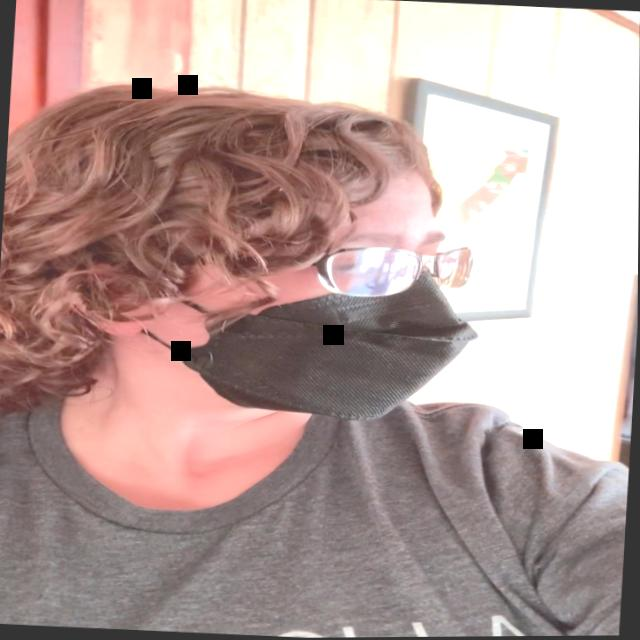Mask: (186, 161, 482, 430)
